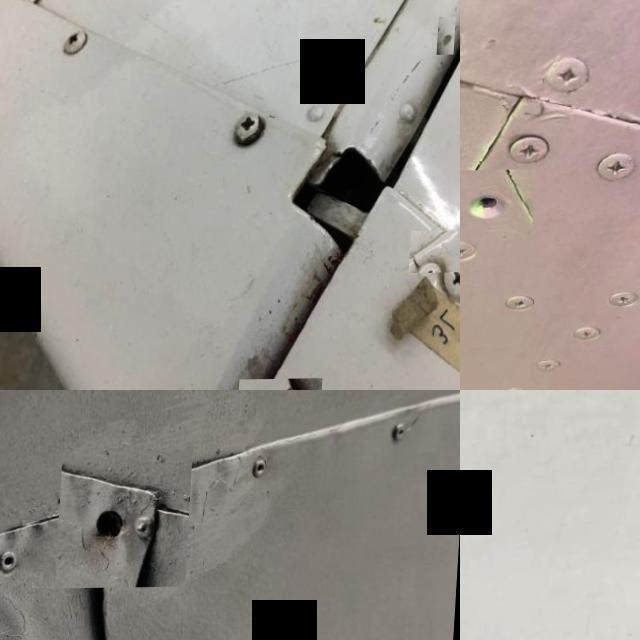Crack: (414, 231, 460, 274), (439, 18, 458, 56)
Missing_Fastener: (59, 450, 194, 590), (460, 170, 538, 241)
